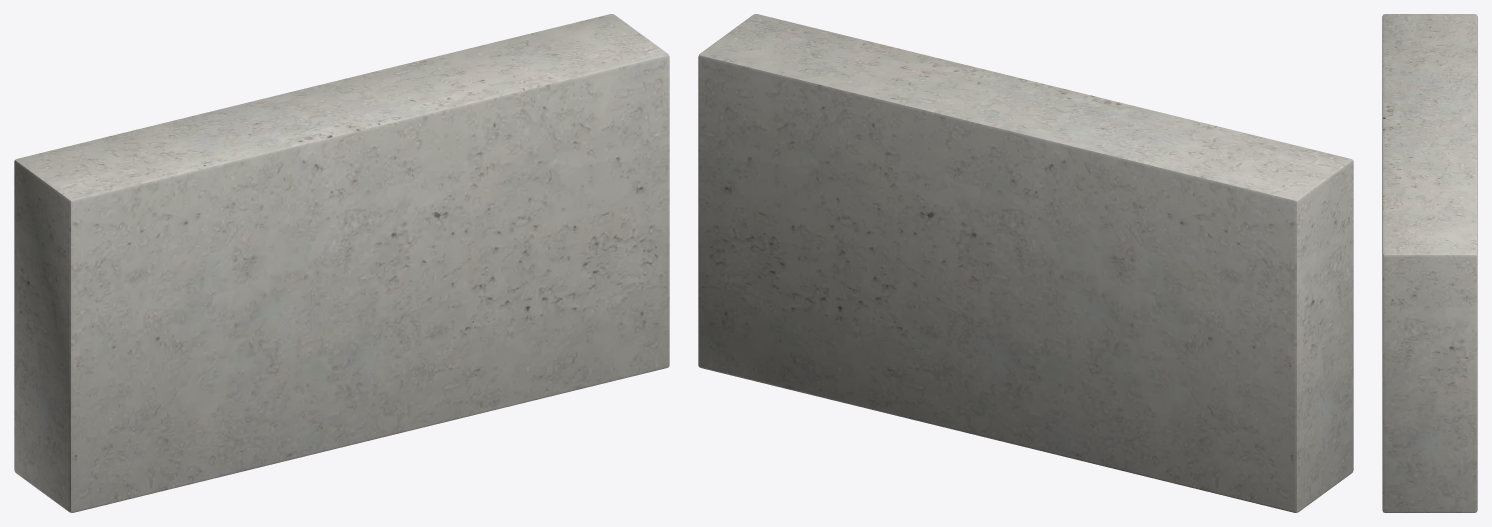
The model's file is ALV-CEL-001.glb.
3 renders of one model, left to right at view 1: azimuth 30°, elevation 25°; view 2: azimuth 150°, elevation 25°; view 3: azimuth 270°, elevation 25°, orthographic. The views are drawn at different scales.
Visible parts, largest first — view 1: ALV-CEL-001_peca; view 2: ALV-CEL-001_peca; view 3: ALV-CEL-001_peca.
Boxes of the visible parts, box(x1,y1,x2,y2) form: ALV-CEL-001_peca: box(14, 14, 669, 512); ALV-CEL-001_peca: box(698, 14, 1353, 512); ALV-CEL-001_peca: box(1382, 14, 1477, 512).
Size of the model in its own units: 0.6 by 0.3 by 0.1.
Materials: 1 (1 with a texture image).
